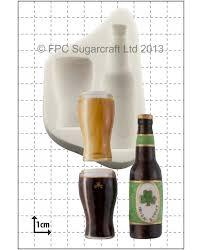Glass bottle: (121, 106, 165, 247)
